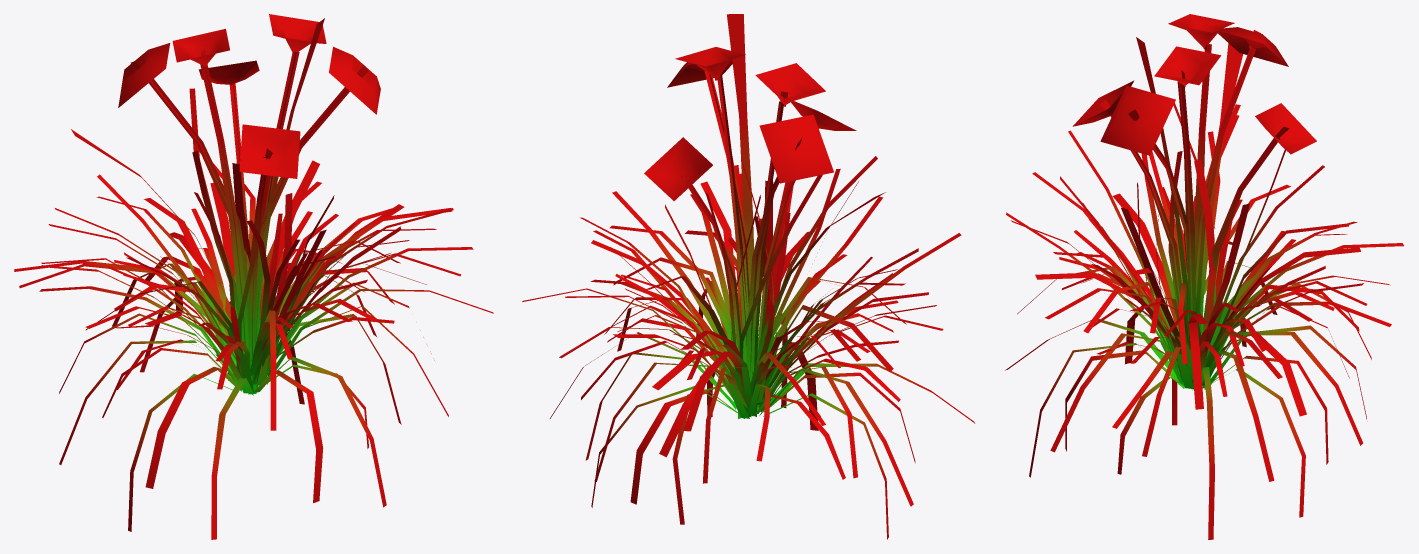
The model's file is White Windflower_LOD2_Var1_sktlN.fbx.
3 views of the same model, side by side, from view 1: azimuth 30°, elevation 25°; view 2: azimuth 150°, elevation 25°; view 3: azimuth 270°, elevation 25° (orthographic). The views are drawn at different scales.
Visible parts, largest first — view 1: _541d_Var1_LOD2; view 2: _541d_Var1_LOD2; view 3: _541d_Var1_LOD2.
Part boxes in pixels (bbox=[...]): _541d_Var1_LOD2: bbox=[14, 14, 493, 539]; _541d_Var1_LOD2: bbox=[522, 14, 975, 539]; _541d_Var1_LOD2: bbox=[1005, 14, 1403, 539].
Size of the model in its own units: 83.32 by 95.18 by 73.68.
